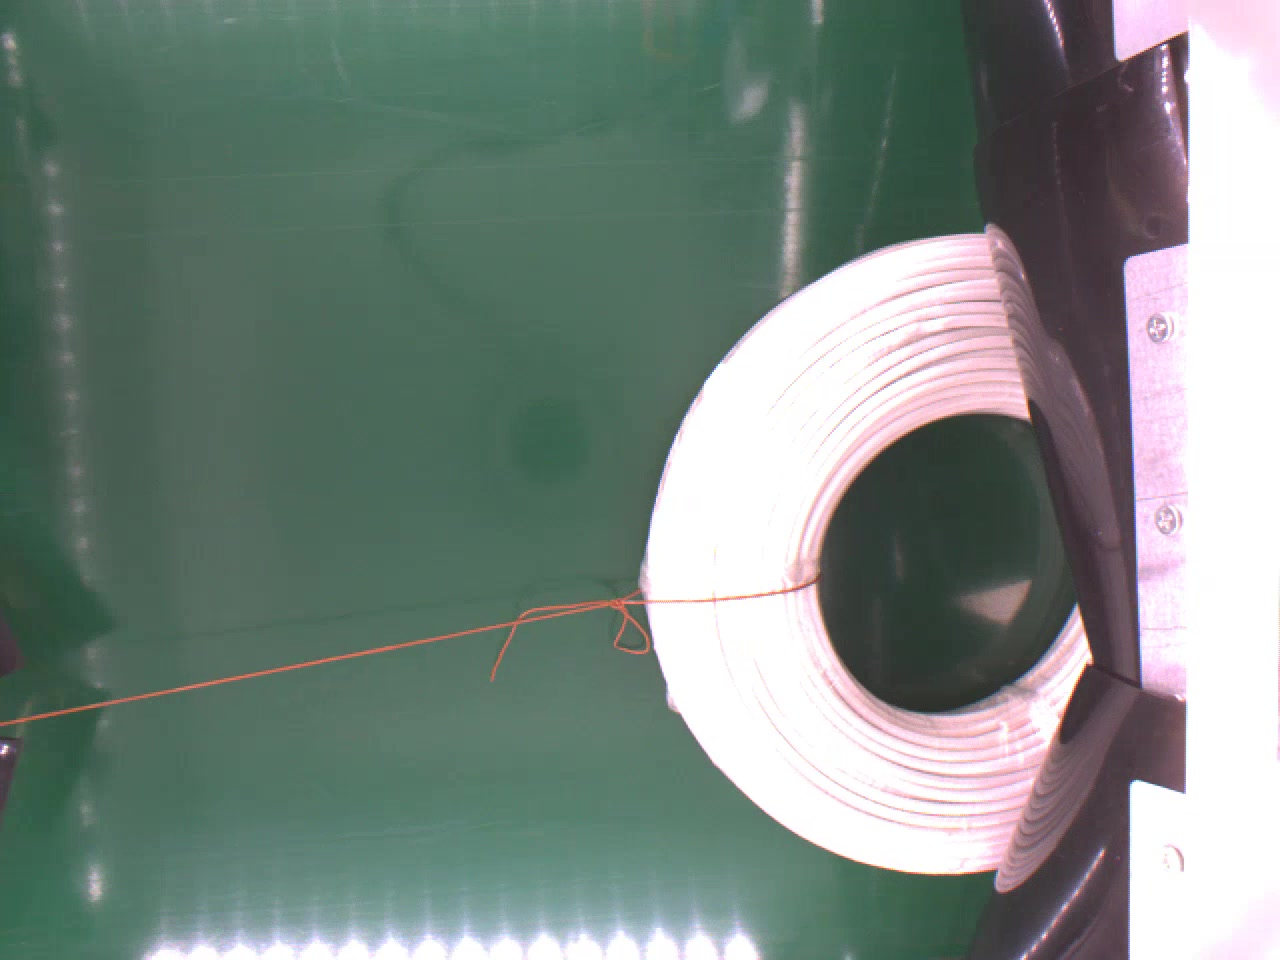white: (639, 231, 1094, 875)
